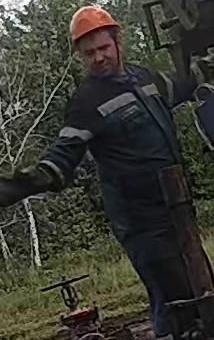gloves: (0, 158, 72, 205)
helmet: (69, 5, 120, 44)
vest: (76, 68, 187, 217)
